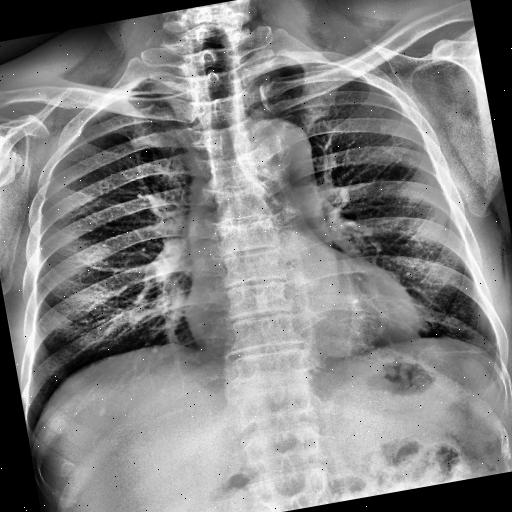0- Aortic enlargement: (228, 110, 318, 196), (236, 116, 316, 192), (251, 111, 313, 173)
13- Pulmonary fibrosis: (446, 344, 487, 358)
3- Cardiomegaly: (180, 254, 426, 382)
